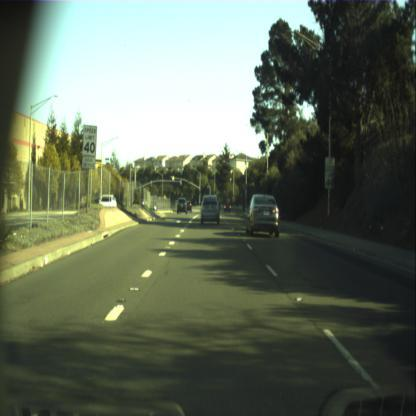Green: (187, 180, 189, 184), (200, 191, 200, 195)
Red: (170, 175, 172, 179)
